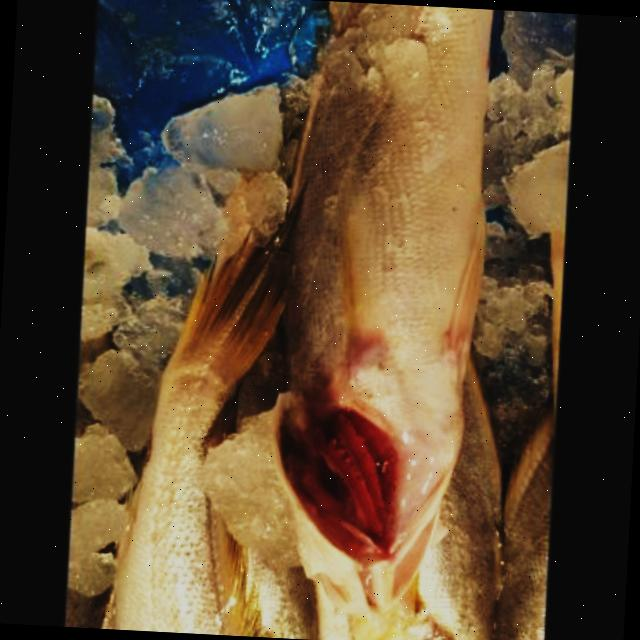Flavobacterium -Bacterial Gill Disease-: (268, 3, 491, 611), (272, 2, 492, 618)
